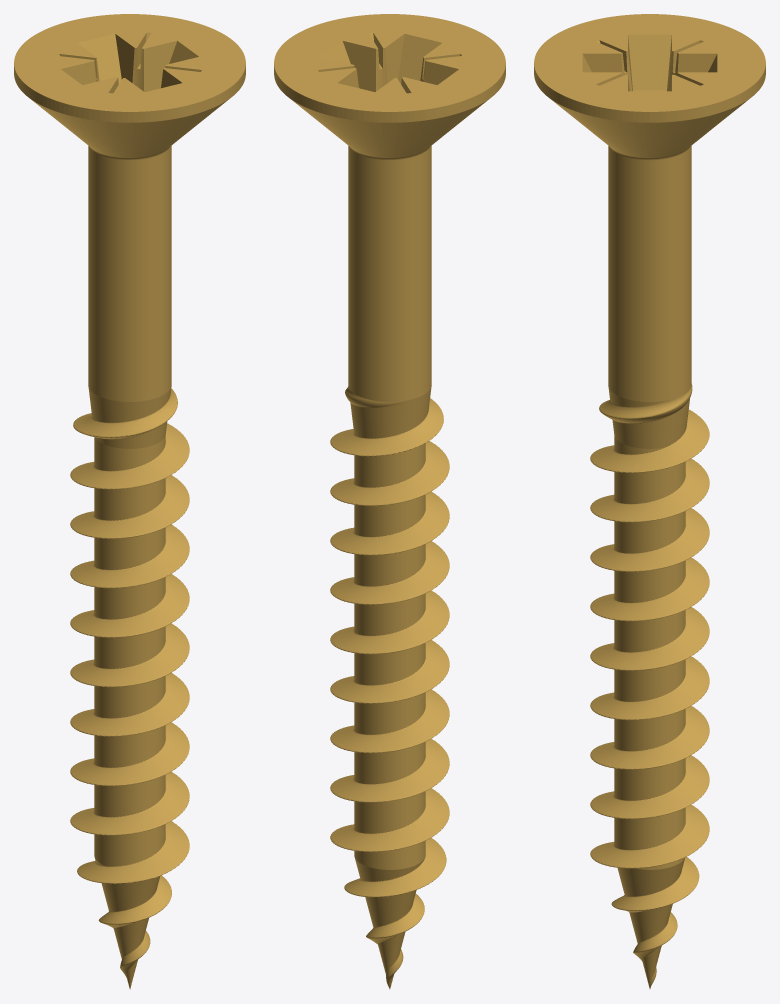
The model's file is model_full.glb.
3 views of the same model, side by side, from view 1: azimuth 30°, elevation 25°; view 2: azimuth 150°, elevation 25°; view 3: azimuth 270°, elevation 25° (orthographic).
Parts seen in each view (by area): view 1: geometry_0; view 2: geometry_0; view 3: geometry_0.
Part boxes in pixels (left/top/right/bottom): geometry_0: left=14, top=14, right=245, bottom=989; geometry_0: left=274, top=14, right=505, bottom=989; geometry_0: left=534, top=14, right=765, bottom=988.
Size of the model in its own units: 0.0068 by 0.03 by 0.0068.
